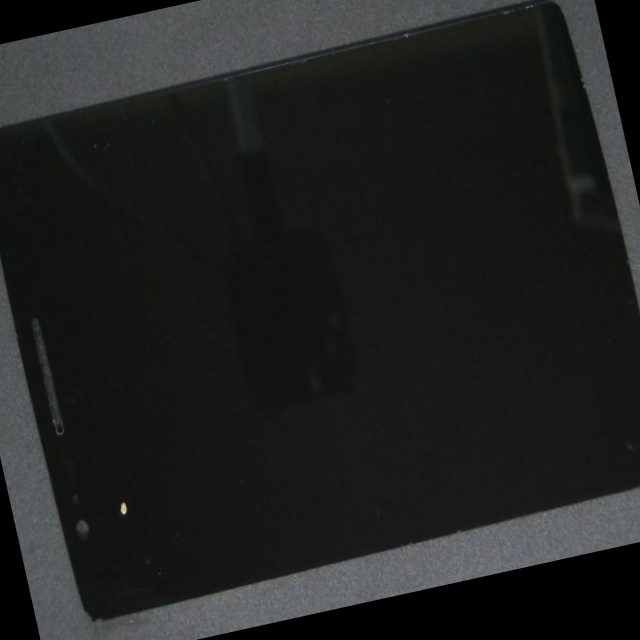stain: (0, 278, 201, 640)
